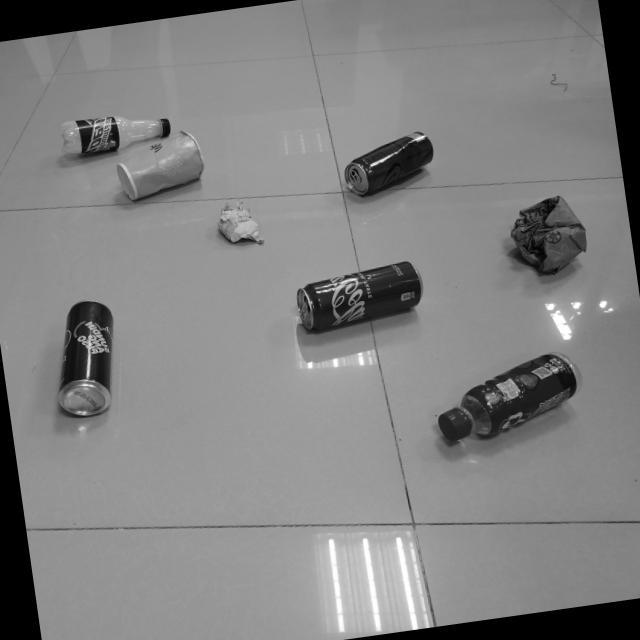recyclable waste: (426, 343, 594, 452), (39, 288, 133, 426), (286, 254, 432, 340), (502, 184, 598, 286), (107, 120, 216, 207), (336, 124, 444, 201), (54, 100, 183, 163), (212, 192, 274, 252)
